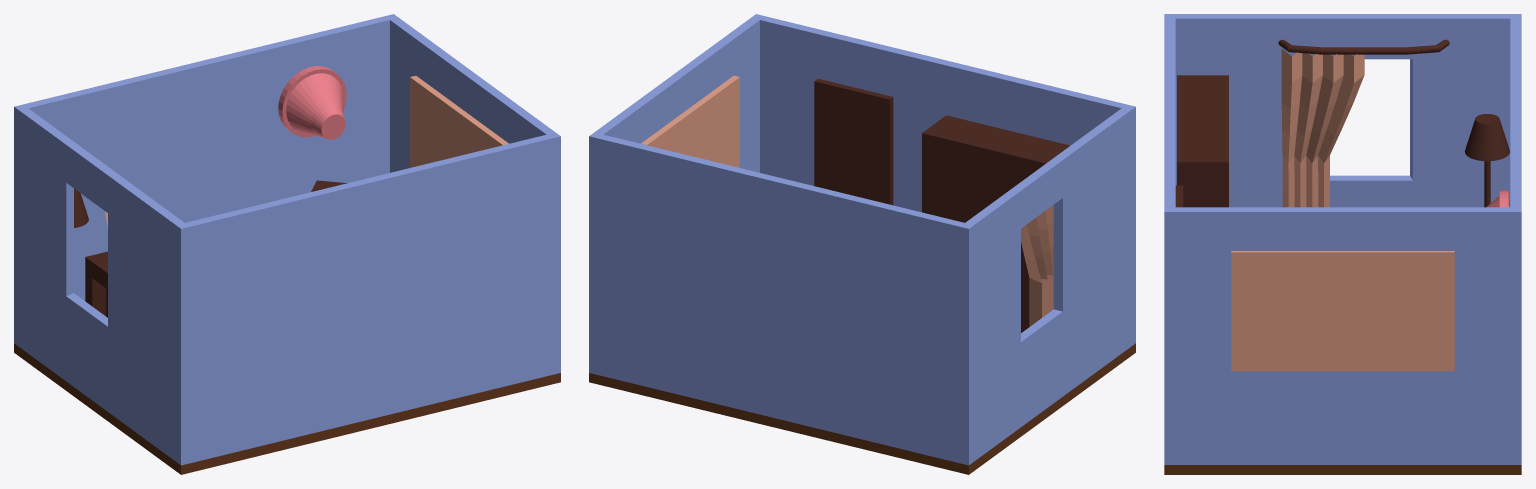
File: Blocking.fbx
3 renders of one model, left to right at view 1: azimuth 30°, elevation 25°; view 2: azimuth 150°, elevation 25°; view 3: azimuth 270°, elevation 25°, orthographic. The views are drawn at different scales.
Parts seen in each view (by area): view 1: Mure1, Mure3, Mure2, Mure4, Sol, painture, Couchon, Bureau; view 2: Mure3, Mure2, Mure1, Mure4, Biblioteque, Porte, Sol, painture, Rideau; view 3: Mure4, Mure2, painture, Rideau, Biblioteque, Sol, Mure1, Mure3, Lampe, Gardine.
Part boxes in pixels (x1,y1,x2,y2): Mure1: [185, 134, 551, 463]; Mure3: [23, 16, 389, 300]; Mure2: [14, 104, 190, 465]; Mure4: [385, 14, 560, 374]; Sol: [14, 343, 560, 474]; painture: [410, 75, 508, 167]; Couchon: [278, 66, 346, 139]; Bureau: [85, 251, 107, 317]; Mure3: [598, 134, 964, 463]; Mure2: [959, 104, 1135, 465]; Mure1: [760, 16, 1126, 212]; Mure4: [589, 14, 764, 374]; Biblioteque: [922, 115, 1069, 332]; Porte: [814, 78, 893, 205]; Sol: [589, 343, 1135, 474]; painture: [641, 75, 739, 167]; Rideau: [1021, 205, 1053, 326]; Mure4: [1164, 207, 1521, 464]; Mure2: [1164, 14, 1521, 207]; painture: [1231, 251, 1454, 371]; Rideau: [1281, 49, 1364, 207]; Biblioteque: [1177, 75, 1228, 207]; Sol: [1164, 465, 1521, 474]; Mure1: [1164, 18, 1175, 207]; Mure3: [1510, 18, 1521, 207]; Lampe: [1464, 114, 1509, 207]; Gardine: [1278, 39, 1449, 54].
Size of the model in its own units: 423 by 260 by 320.
